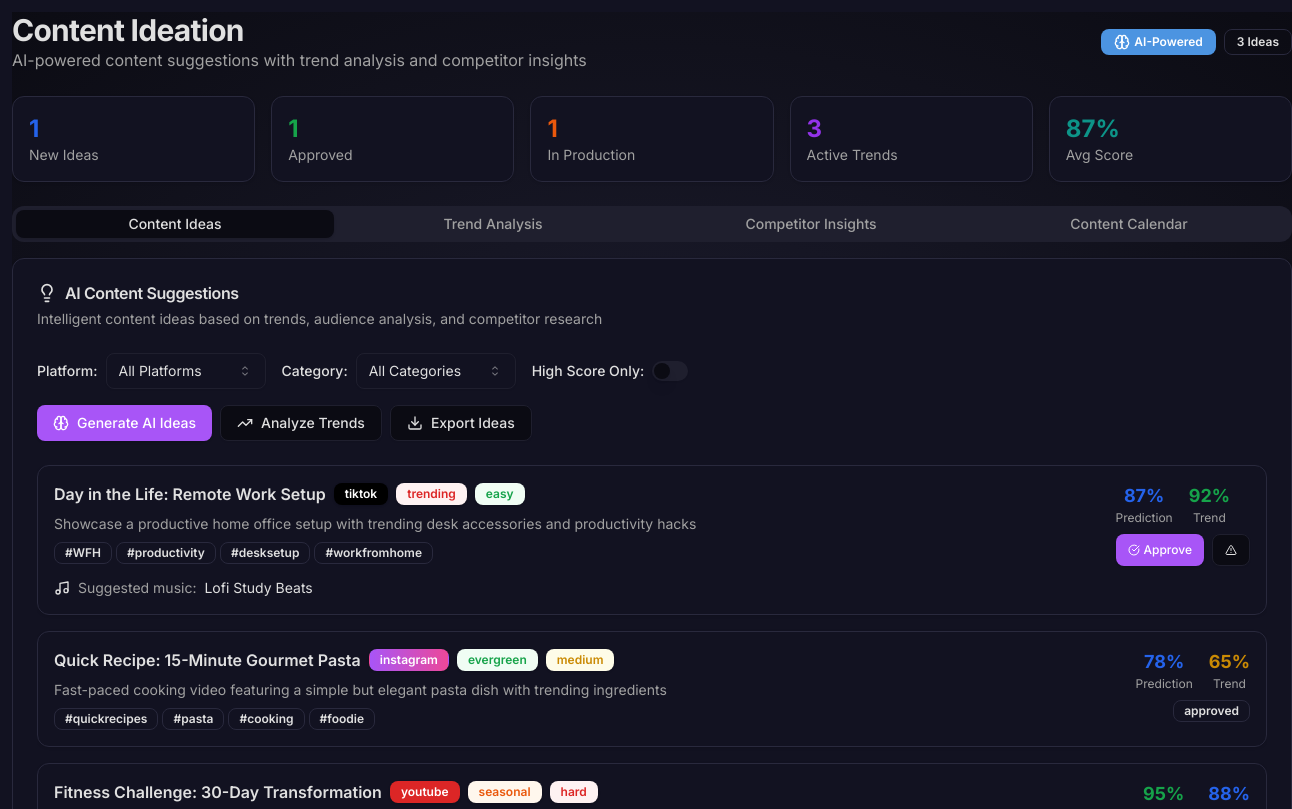
Test: ContentIdeationModule › shows trend sources and confidence
The image size is (1292, 809).
Click the tab "Trend Analysis" at (493, 224), box left=334, top=210, right=652, bottom=238
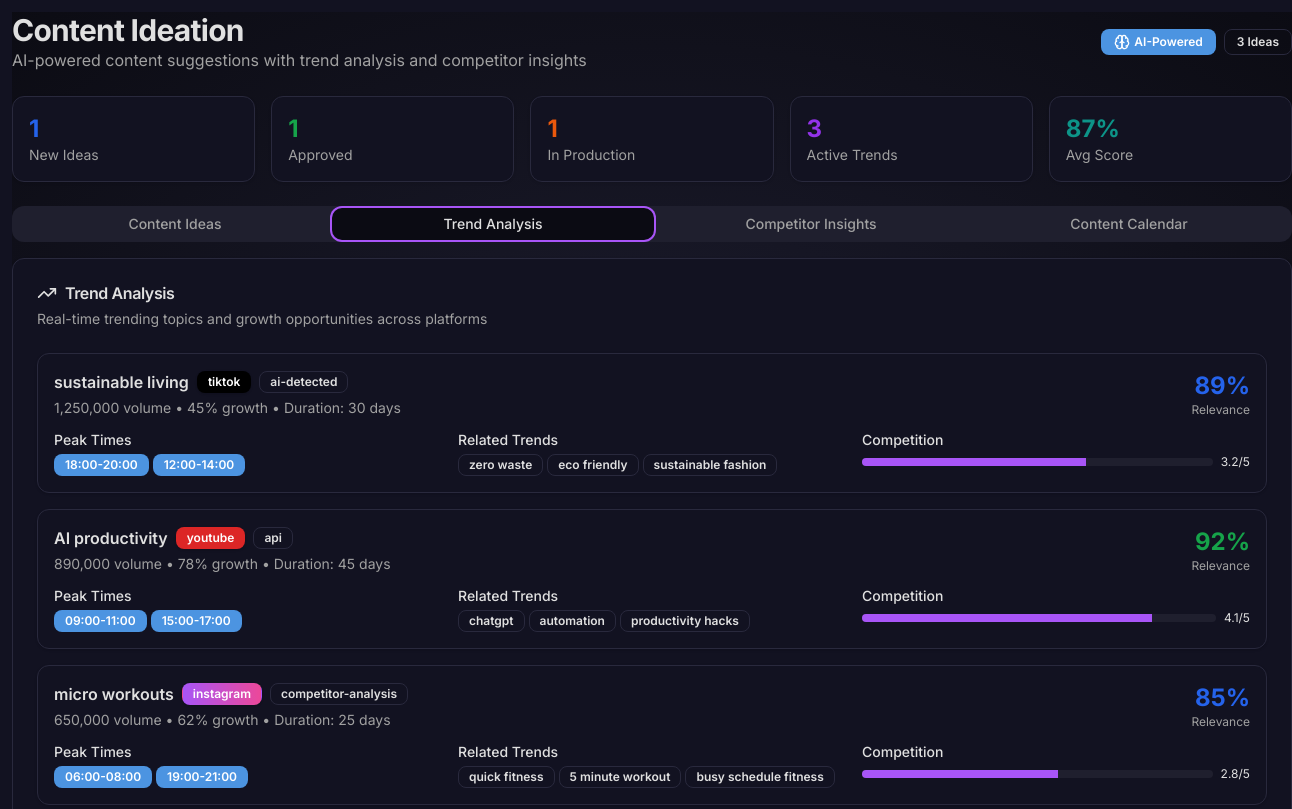
Check: the text "ai-detected" is shown, box left=259, top=371, right=348, bottom=393
